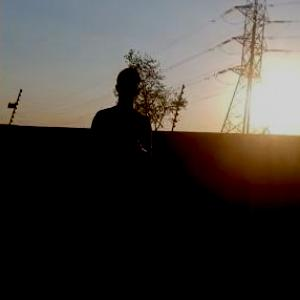follow: (67, 59, 154, 299)
